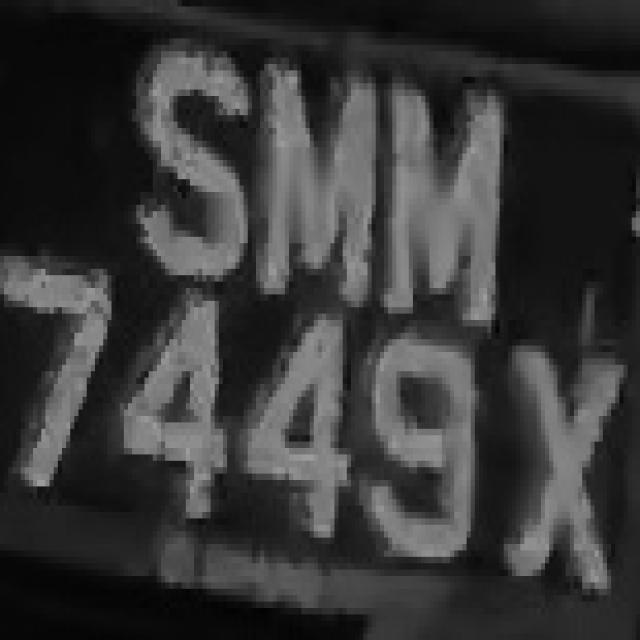4: (120, 256, 239, 550), (240, 282, 359, 556)
7: (0, 218, 120, 512)
9: (355, 301, 487, 595)
M: (244, 44, 384, 314), (384, 51, 508, 352)
S: (128, 19, 244, 307)
X: (492, 301, 620, 608)
